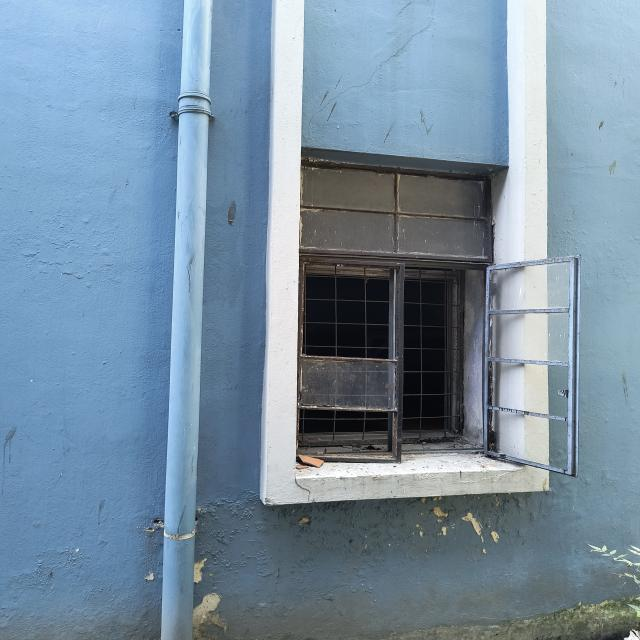Broken window pane: (293, 249, 577, 478)
Crack: (307, 4, 437, 130)
Paint Peeling: (408, 492, 515, 558), (193, 593, 227, 640), (194, 558, 207, 583)
